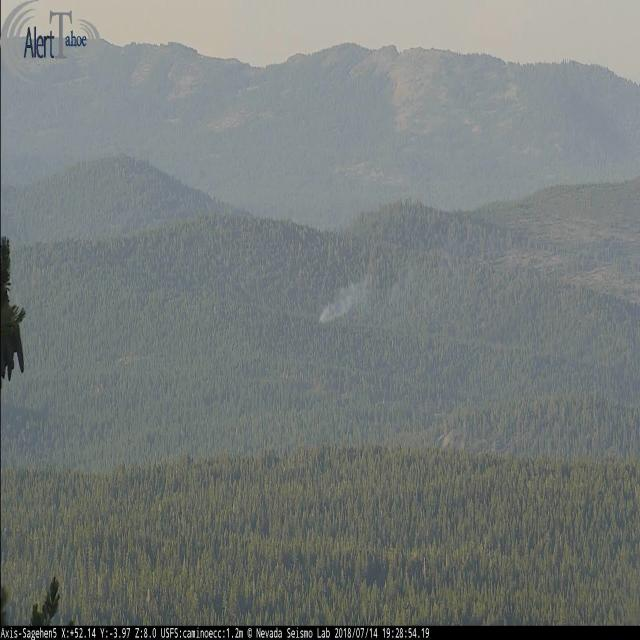smoke: (318, 281, 366, 326)
